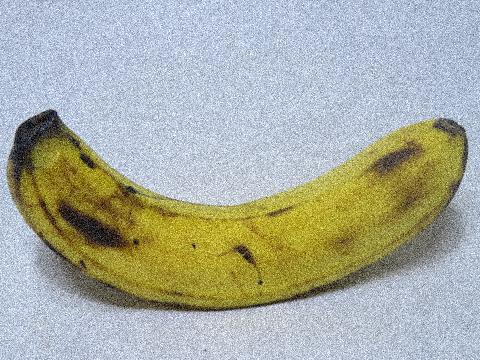ripe: (5, 81, 479, 324)
